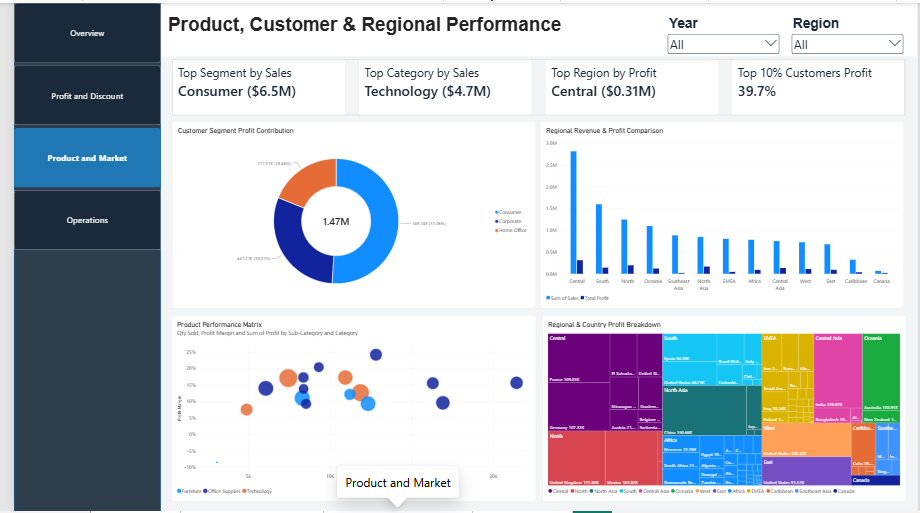

The dashboard page shown, as its layout file describes it:
{"tool":"powerbi","page":{"name":"Product and Market","canvas":[2560,1440],"ordinal":2},"visuals":[{"type":"shape","box":[0,0,416,1441.3],"z":0},{"type":"shape","box":[416.6,0,2143.4,151.2],"z":1000},{"type":"textbox","box":[415.5,31.7,1176.1,126.8],"z":2000},{"type":"slicer","fields":{"Values":["Sheet1.Region"]},"box":[2199.7,37.6,325.6,137.7],"z":3000},{"type":"slicer","fields":{"Values":["Sheet1.Order Date.Variation.Date Hierarchy.Year","Sheet1.Order Date.Variation.Date Hierarchy.Quarter","Sheet1.Order Date.Variation.Date Hierarchy.Month"]},"box":[1849,37.6,325.6,137.7],"z":4000},{"type":"cardVisual","fields":{"Data":["Sheet1.Top Segment","Sheet1.Top Category","Sheet1.Top Region","Sheet1.Customer Concentration"]},"box":[448,160,2080,160],"z":5000},{"type":"donutChart","title":" Customer Segment Profit Contribution","fields":{"Category":["Sheet1.Segment"],"Y":["Sheet1.Total Profit"]},"box":[447.2,334.5,1031.7,531.7],"z":6000},{"type":"clusteredColumnChart","title":"Regional Revenue & Profit Comparison","fields":{"Category":["Sheet1.Region"],"Y":["Sum(Sheet1.Sales)","Sheet1.Total Profit"]},"box":[1490,334,1032,532],"z":7000},{"type":"scatterChart","title":"Product Performance Matrix","fields":{"Category":["Sheet1.Sub-Category"],"Series":["Sheet1.Category"],"Size":["Sum(Sheet1.Profit)"],"X":["Sheet1.Qty Sold"],"Y":["Sheet1.Profit Margin"]},"box":[445,885,1035,530],"z":8000},{"type":"treemap","title":" Regional & Country Profit Breakdown","fields":{"Details":["Sheet1.Country"],"Group":["Sheet1.Region"],"Values":["Sum(Sheet1.Profit)"]},"box":[1497,885,1032,530],"z":9000},{"type":"pageNavigator","box":[0,0,416,700],"z":10000}]}

Visuals, with their boxes on the page's 2560x1440 design canvas (x1, y1, x2, y2). These are canvas units, not pixel positions in the 920x513 screenshot, which may show the page scaled, cropped or inside an application window:
shape: box=[0, 0, 416, 1441]
shape: box=[417, 0, 2560, 151]
textbox: box=[416, 32, 1592, 158]
slicer - Sheet1.Region: box=[2200, 38, 2525, 175]
slicer - Sheet1.Order Date.Variation.Date Hierarchy.Year x Sheet1.Order Date.Variation.Date Hierarchy.Quarter: box=[1849, 38, 2175, 175]
cardVisual - Sheet1.Top Segment x Sheet1.Top Category: box=[448, 160, 2528, 320]
" Customer Segment Profit Contribution" donutChart: box=[447, 334, 1479, 866]
"Regional Revenue & Profit Comparison" clusteredColumnChart: box=[1490, 334, 2522, 866]
"Product Performance Matrix" scatterChart: box=[445, 885, 1480, 1415]
" Regional & Country Profit Breakdown" treemap: box=[1497, 885, 2529, 1415]
pageNavigator: box=[0, 0, 416, 700]
